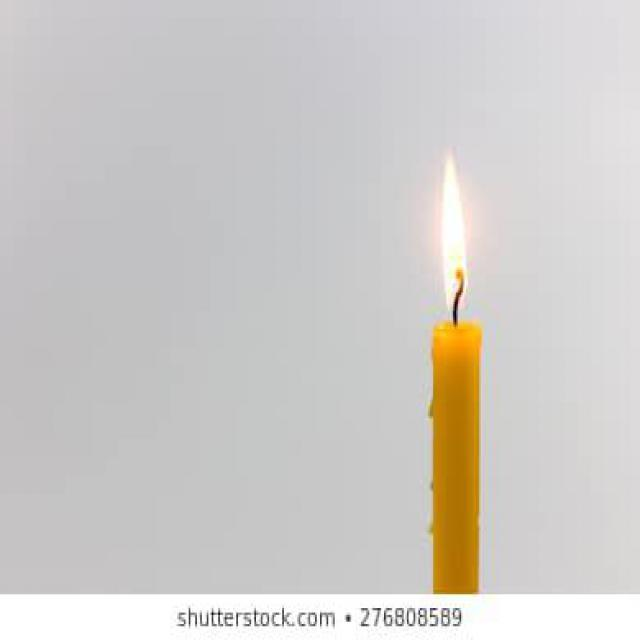Fire: (442, 143, 467, 310)
